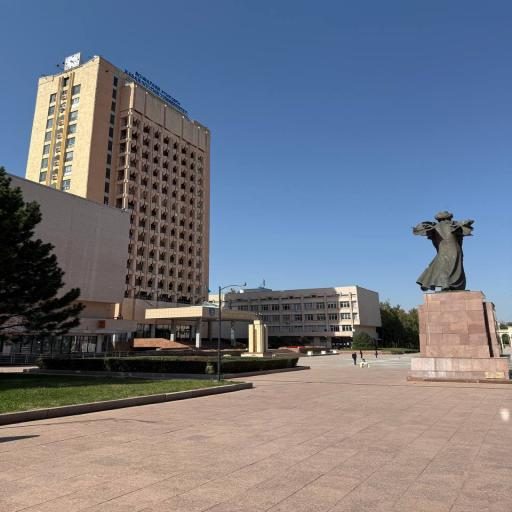construction_fence: (0, 383, 252, 424), (24, 369, 213, 379), (223, 366, 310, 379)
sofa: (268, 349, 307, 357)
